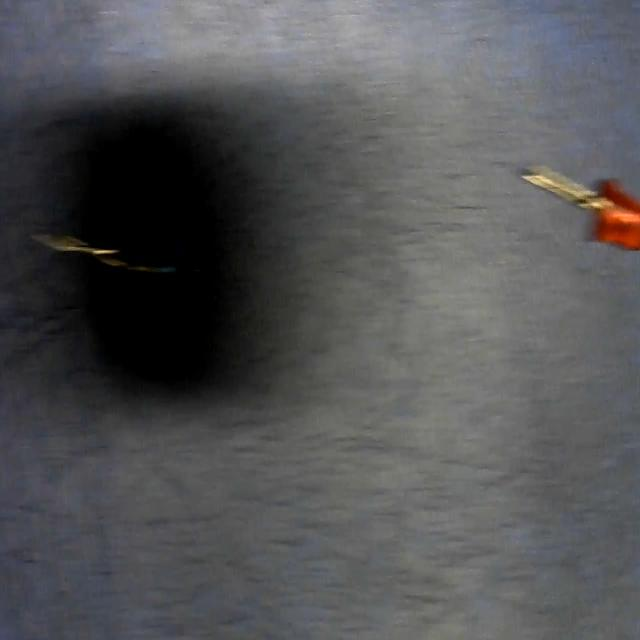LED: (520, 157, 640, 257)
